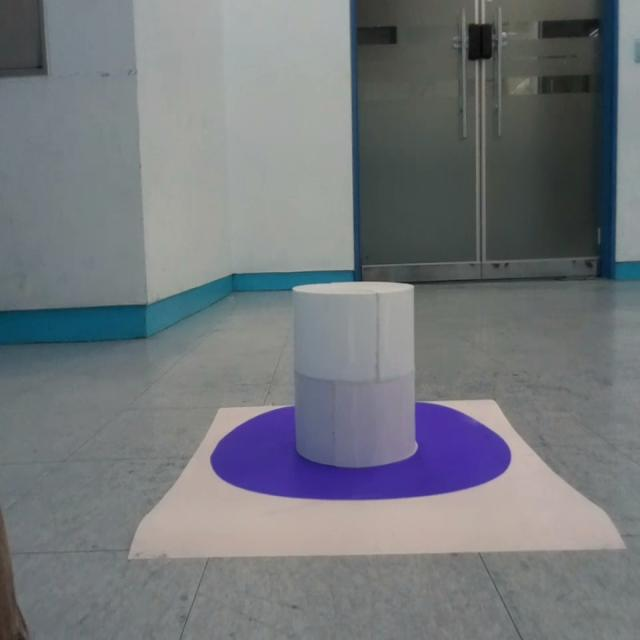cylinder: (292, 280, 415, 468)
